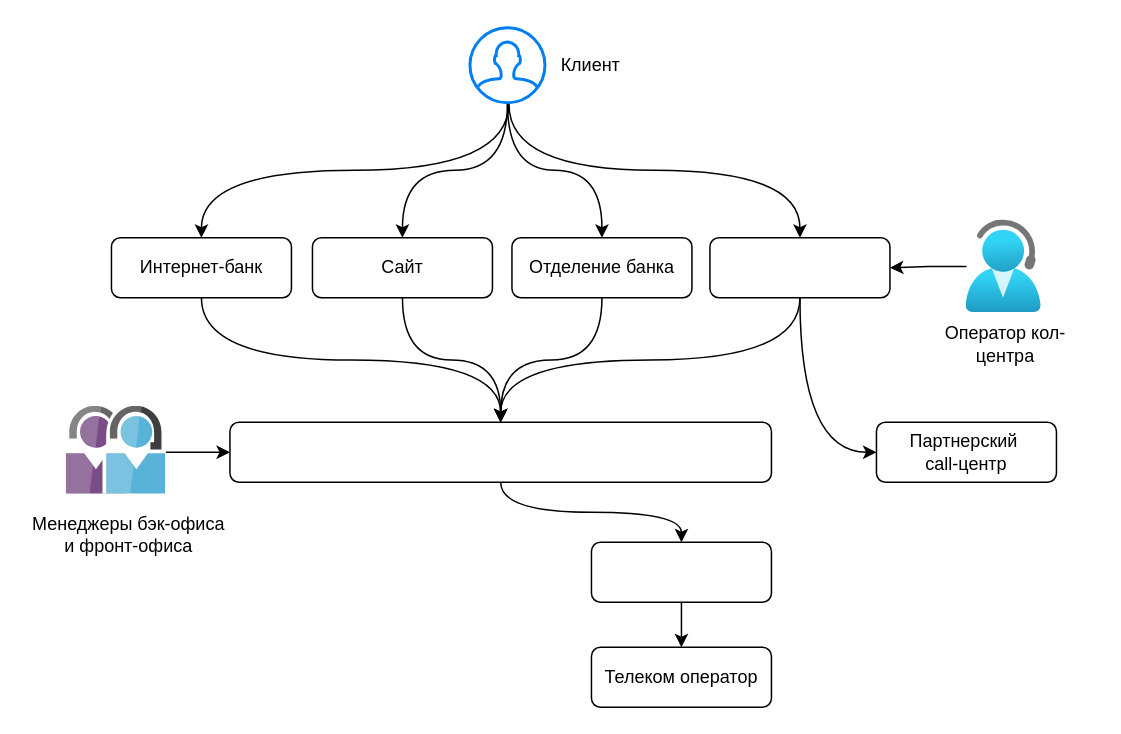
The diagram is 1121 pixels wide and 734 high, and some of its shapes have lost their labels. Each missing label, with the centre of its shape:
"Автоматизированная банковская система" belongs at [499,451].
"Кол-центр" belongs at [799,267].
"СМС-шлюз" belongs at [680,571].
